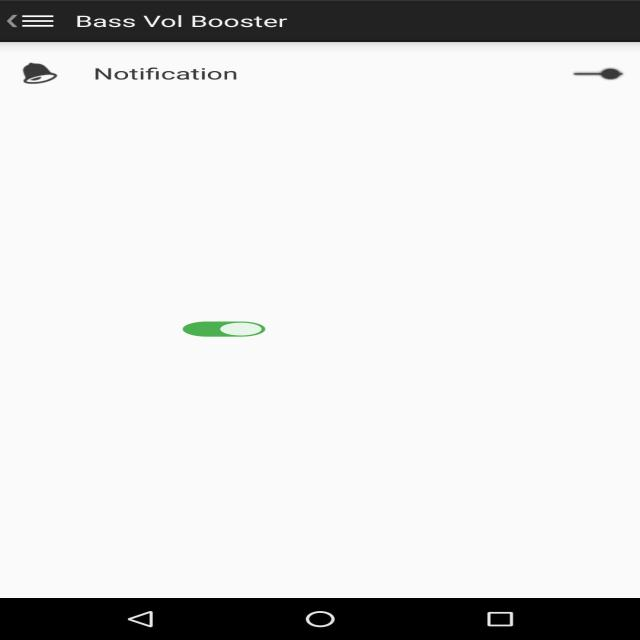social proof: (179, 316, 269, 344)
